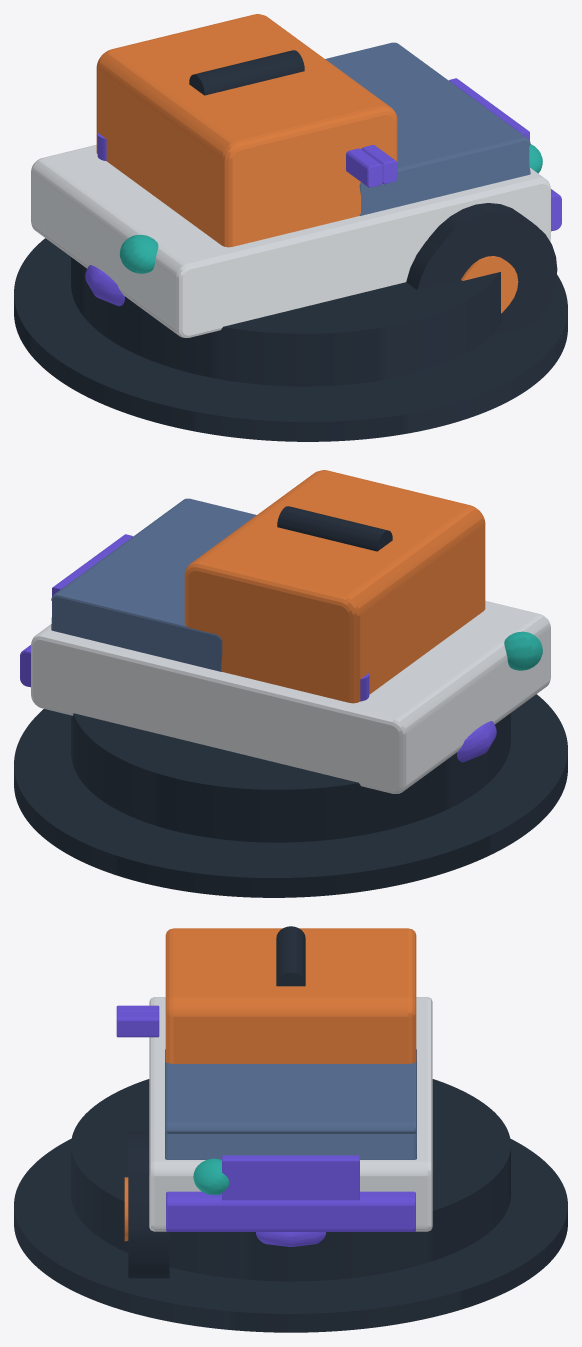
File: 0934_秦汉图鉴_记里鼓车.glb
3 views of the same model, one above another, from view 1: azimuth 30°, elevation 25°; view 2: azimuth 150°, elevation 25°; view 3: azimuth 270°, elevation 25° (orthographic). The views are drawn at different scales.
Parts seen in each view (by area): view 1: card_0934; view 2: card_0934; view 3: card_0934.
Boxes of the visible parts, x1,y1,x2,y2 form: card_0934: (14,14,567,441); card_0934: (14,470,567,897); card_0934: (14,926,567,1332).
Bounding box in the file's own units: 1.81 × 1 × 1.95.
